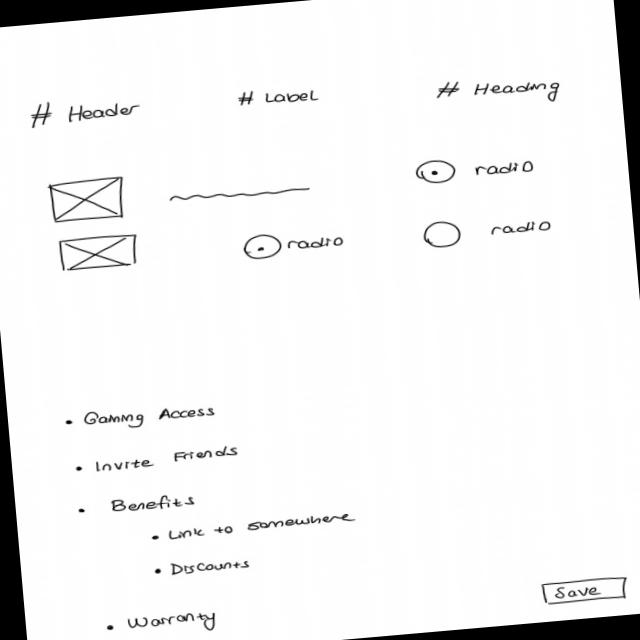button: (541, 575, 629, 607)
image: (49, 177, 128, 224), (56, 233, 140, 273)
label: (167, 511, 358, 543), (433, 71, 564, 114), (82, 400, 218, 435), (28, 94, 146, 133), (95, 444, 242, 475), (126, 610, 219, 639), (238, 84, 322, 110), (111, 492, 199, 516), (169, 555, 253, 578)
radio: (422, 212, 555, 251), (415, 152, 537, 187), (244, 227, 348, 262)
text: (168, 182, 313, 206)
